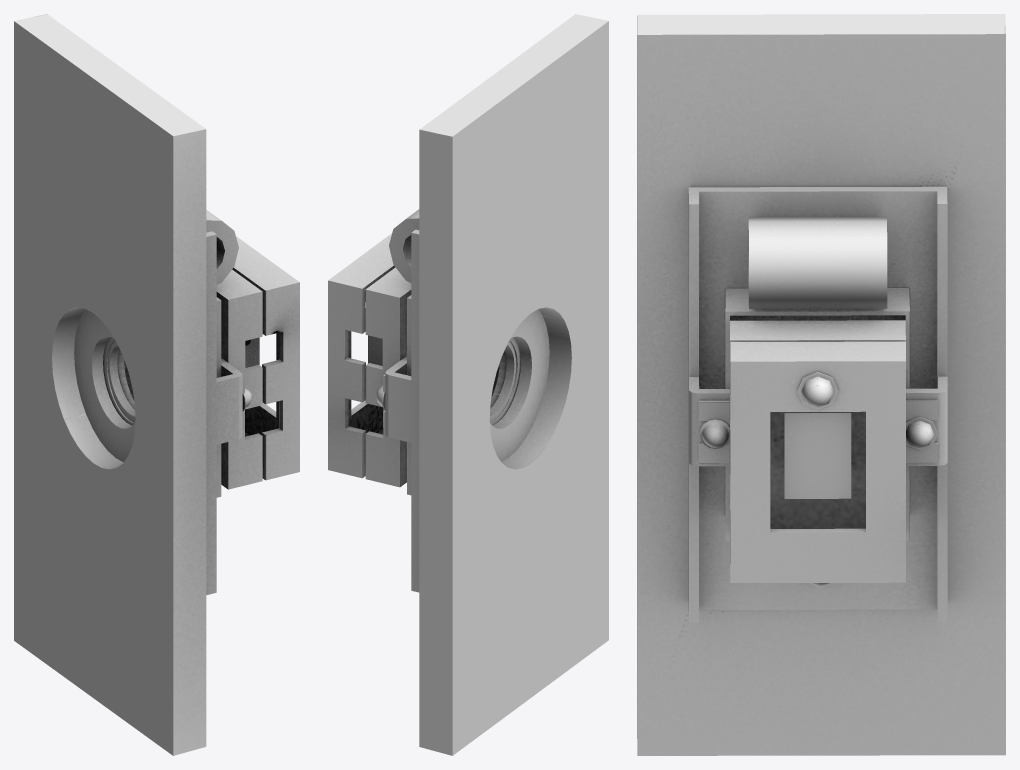
The model's file is elevator_button_panel_highpoly_without_wires.fbx.
3 views of the same model, side by side, from view 1: azimuth 30°, elevation 25°; view 2: azimuth 150°, elevation 25°; view 3: azimuth 270°, elevation 25° (orthographic). The views are drawn at different scales.
Parts seen in each view (by area): view 1: panel_hp; view 2: panel_hp; view 3: panel_hp.
Boxes of the visible parts, bbox=[...] form: panel_hp: bbox=[14, 14, 299, 755]; panel_hp: bbox=[328, 14, 608, 755]; panel_hp: bbox=[637, 14, 1005, 755].
Size of the model in its own units: 2.36 by 7.67 by 3.54.
